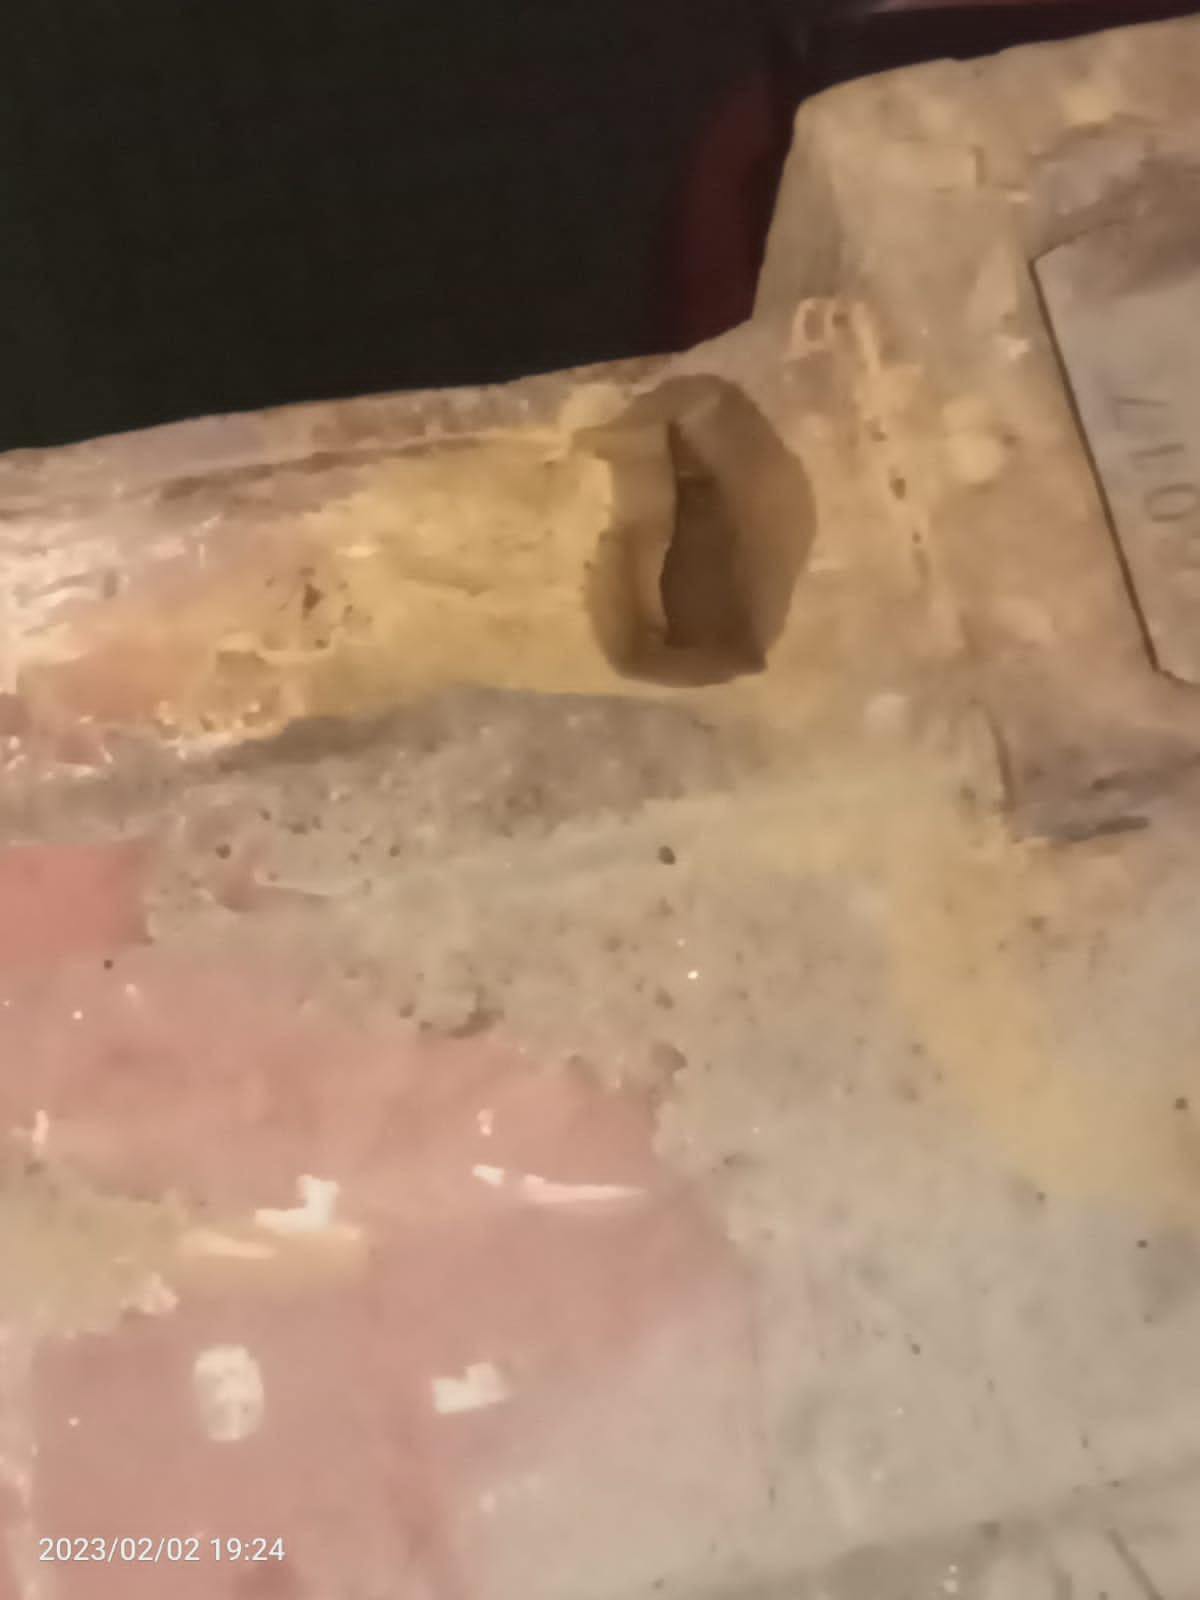top_side: (1, 33, 1194, 1600)
